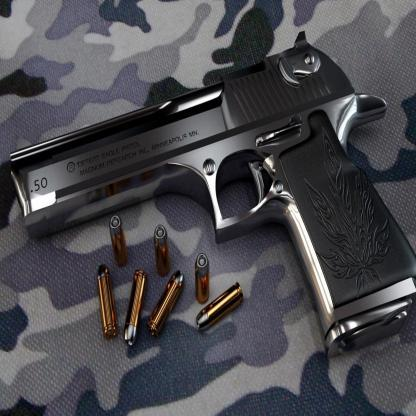Pistol: (8, 28, 416, 356)
